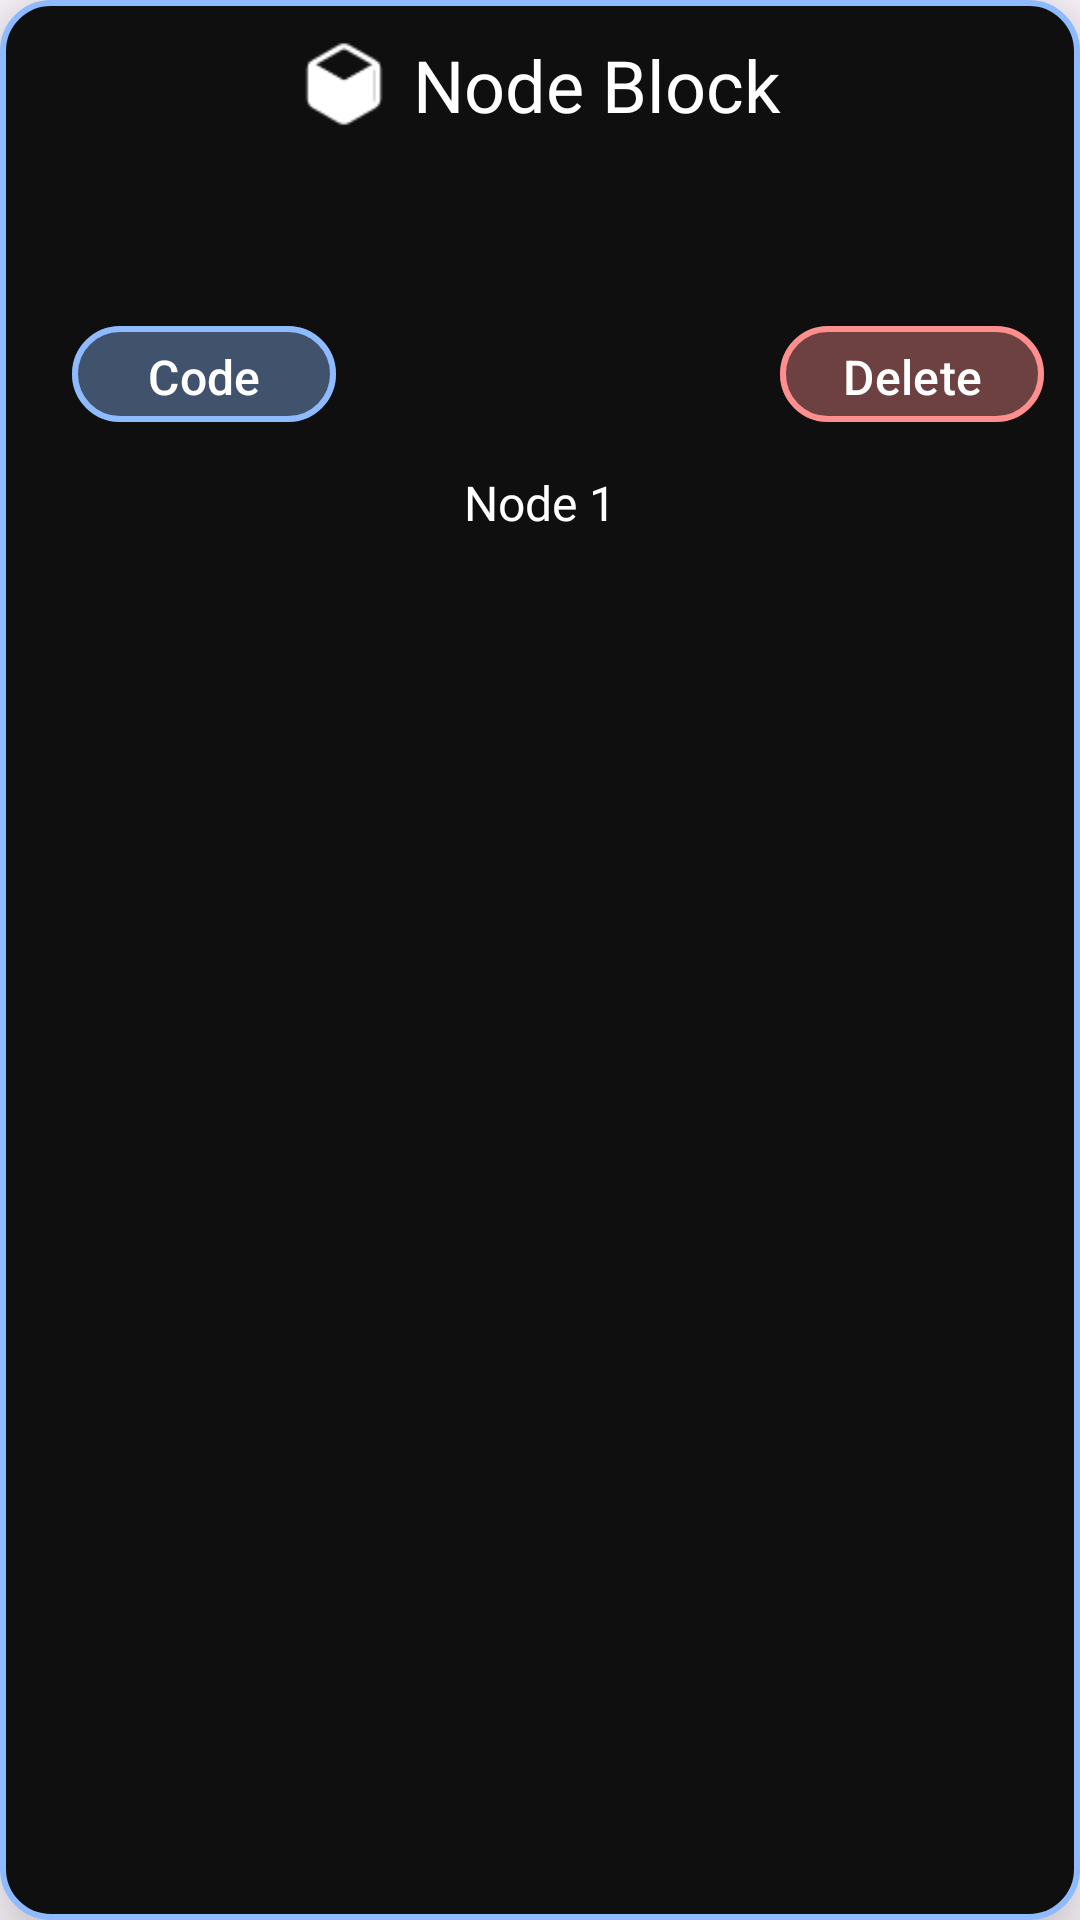

Icons on this 1080w x 1920h Android screen, each with its box as (x1, y1, x2, y2):
box: (306, 43, 382, 125)
